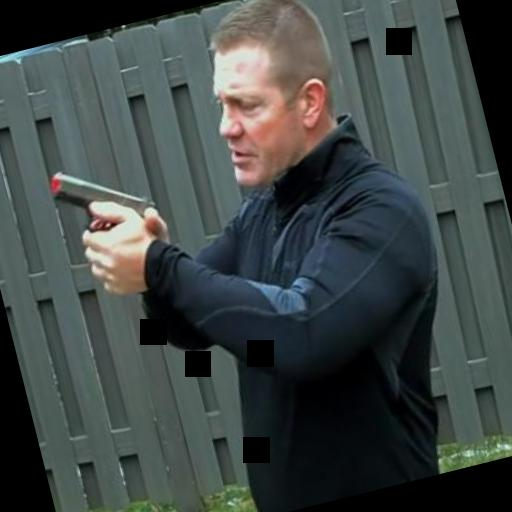Handgun: (36, 142, 185, 308)
